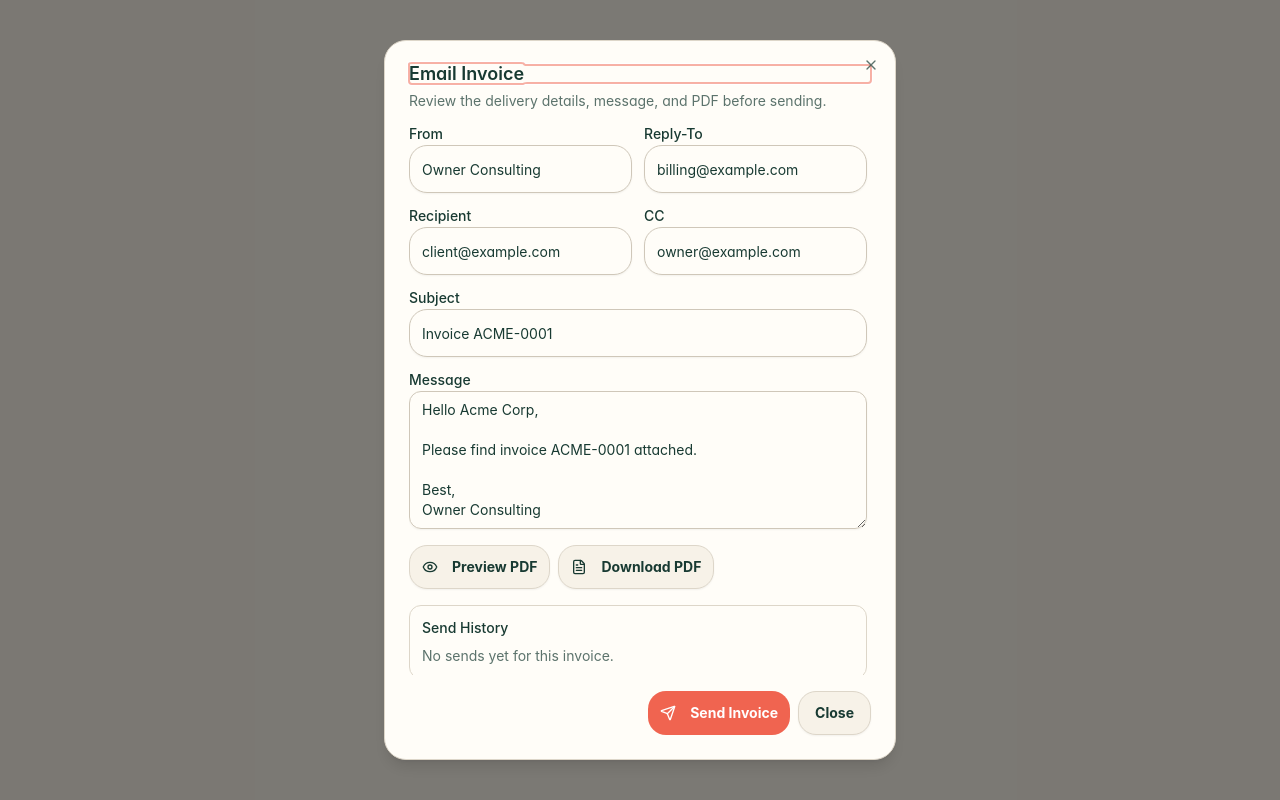
EmailInvoiceDialog — Confirm Delivery Changes shows saved and new values › uses accessible dt/dd definition-list semantic markup for the changed-field list
The image size is (1280, 800).
Replace the text in the field labelled "Recipient" with "other@example.com" at (520, 251), box [409,227,632,275]
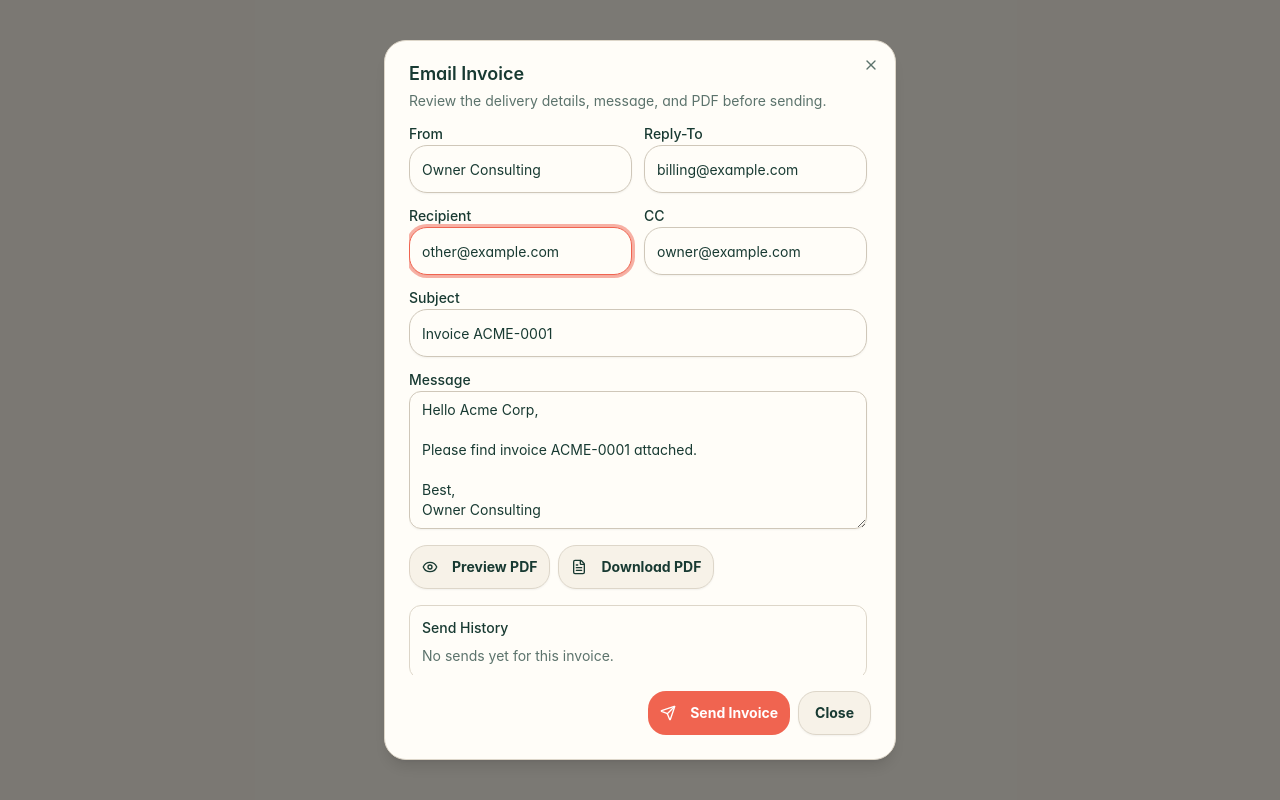
Replace the text in the field labelled "CC" with "changed-cc@example.com" at (756, 251), box [644,227,867,275]
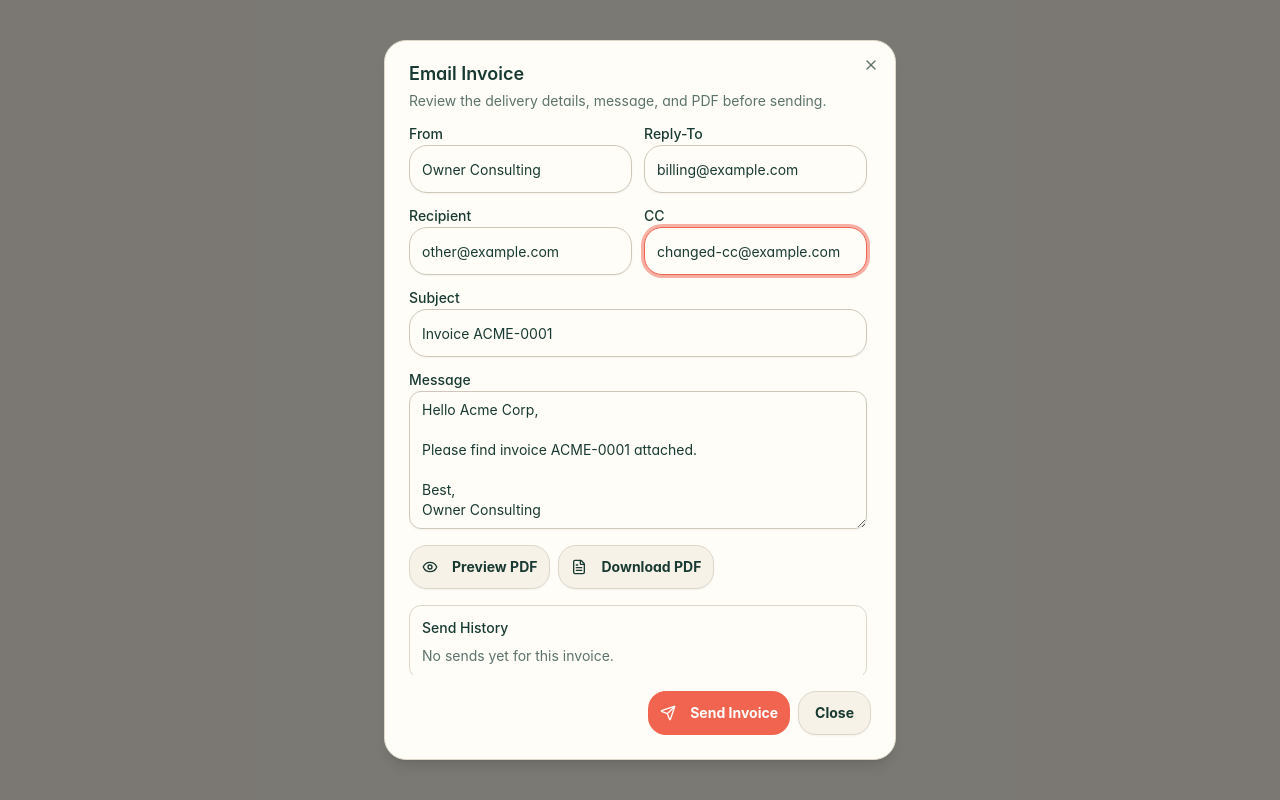
Click the button "Send Invoice" at (719, 713), box [648,691,790,735]
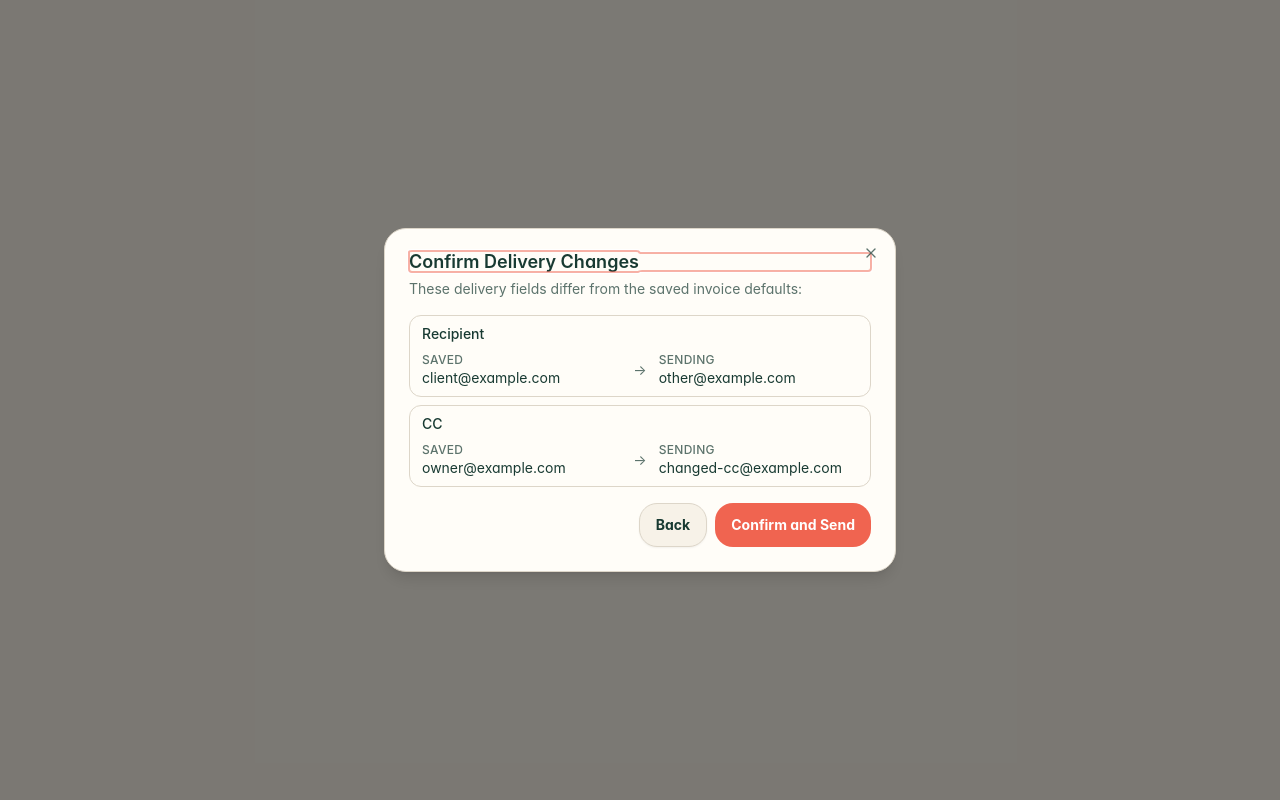
Check: the element showing "Saved client@example.com → Sending other@example.com" is shown, box [422,352,858,388]
Check: the text "Recipient" shows "client@example.com", box [422,369,560,386]
Check: the text "Recipient" shows "other@example.com", box [659,369,796,386]
